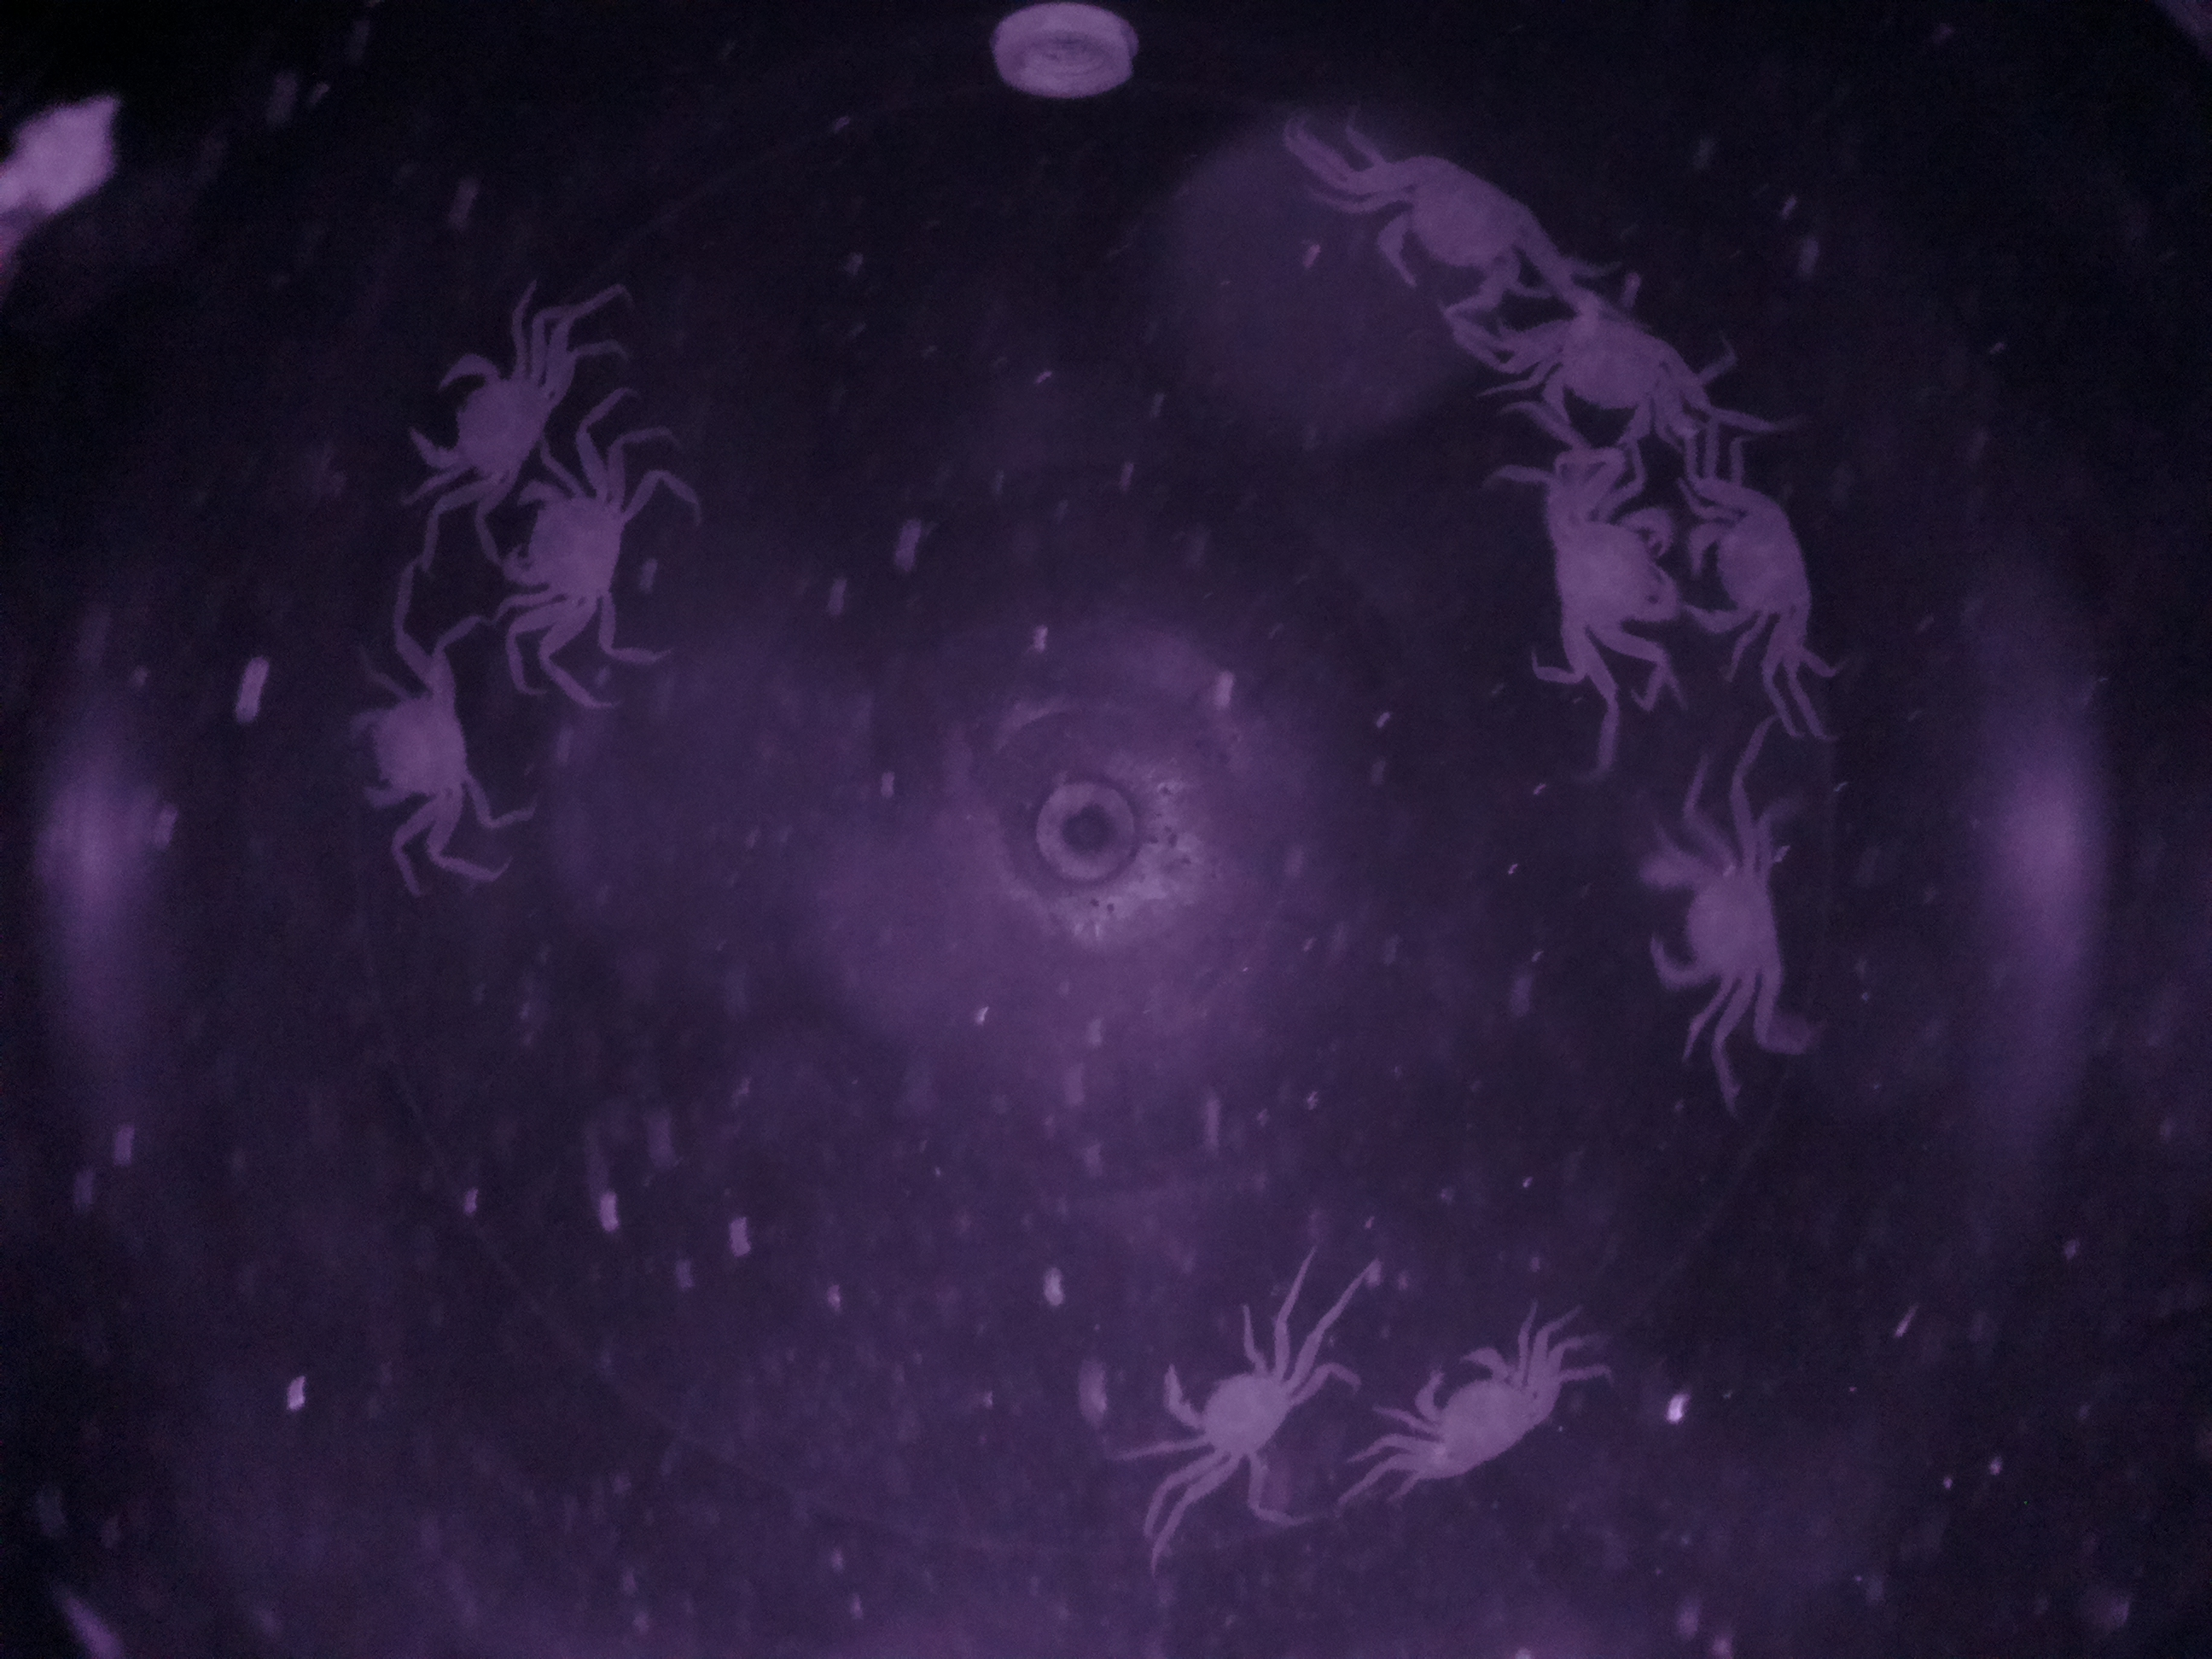Crab: (1338, 127, 1585, 321), (1620, 821, 1813, 1035), (1386, 1319, 1569, 1500), (1674, 472, 1848, 662), (1155, 1283, 1308, 1497), (1527, 479, 1677, 673), (491, 457, 651, 627)
